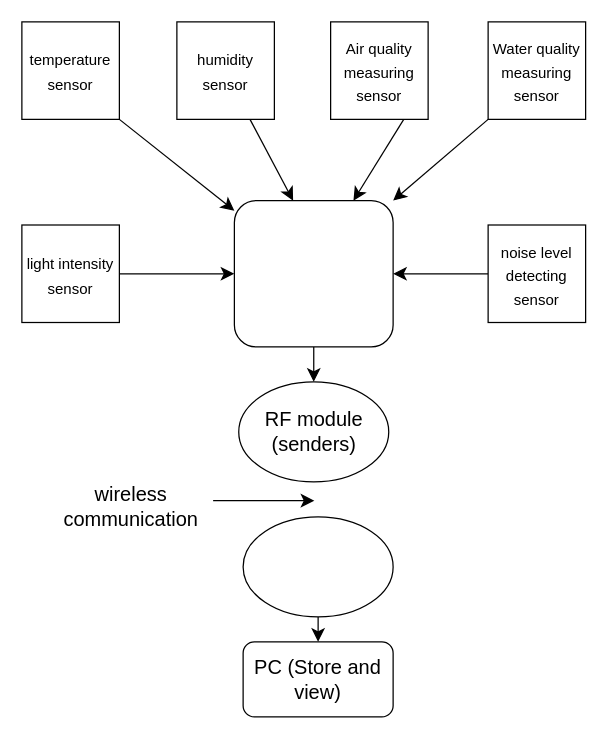
The diagram is 608 pixels wide and 739 high, and some of its shapes have lost their labels. The centre of each missing label's shape, as x and y in pixels:
"microcontroller (Arduino Uno)" goes at (x=313, y=273).
"RF module (Receiver)" goes at (x=317, y=566).
